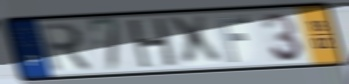3: (260, 10, 306, 64)
7: (85, 15, 122, 76)
F: (215, 14, 252, 64)
H: (128, 16, 179, 71)
R: (36, 21, 96, 75)
X: (166, 14, 227, 69)
